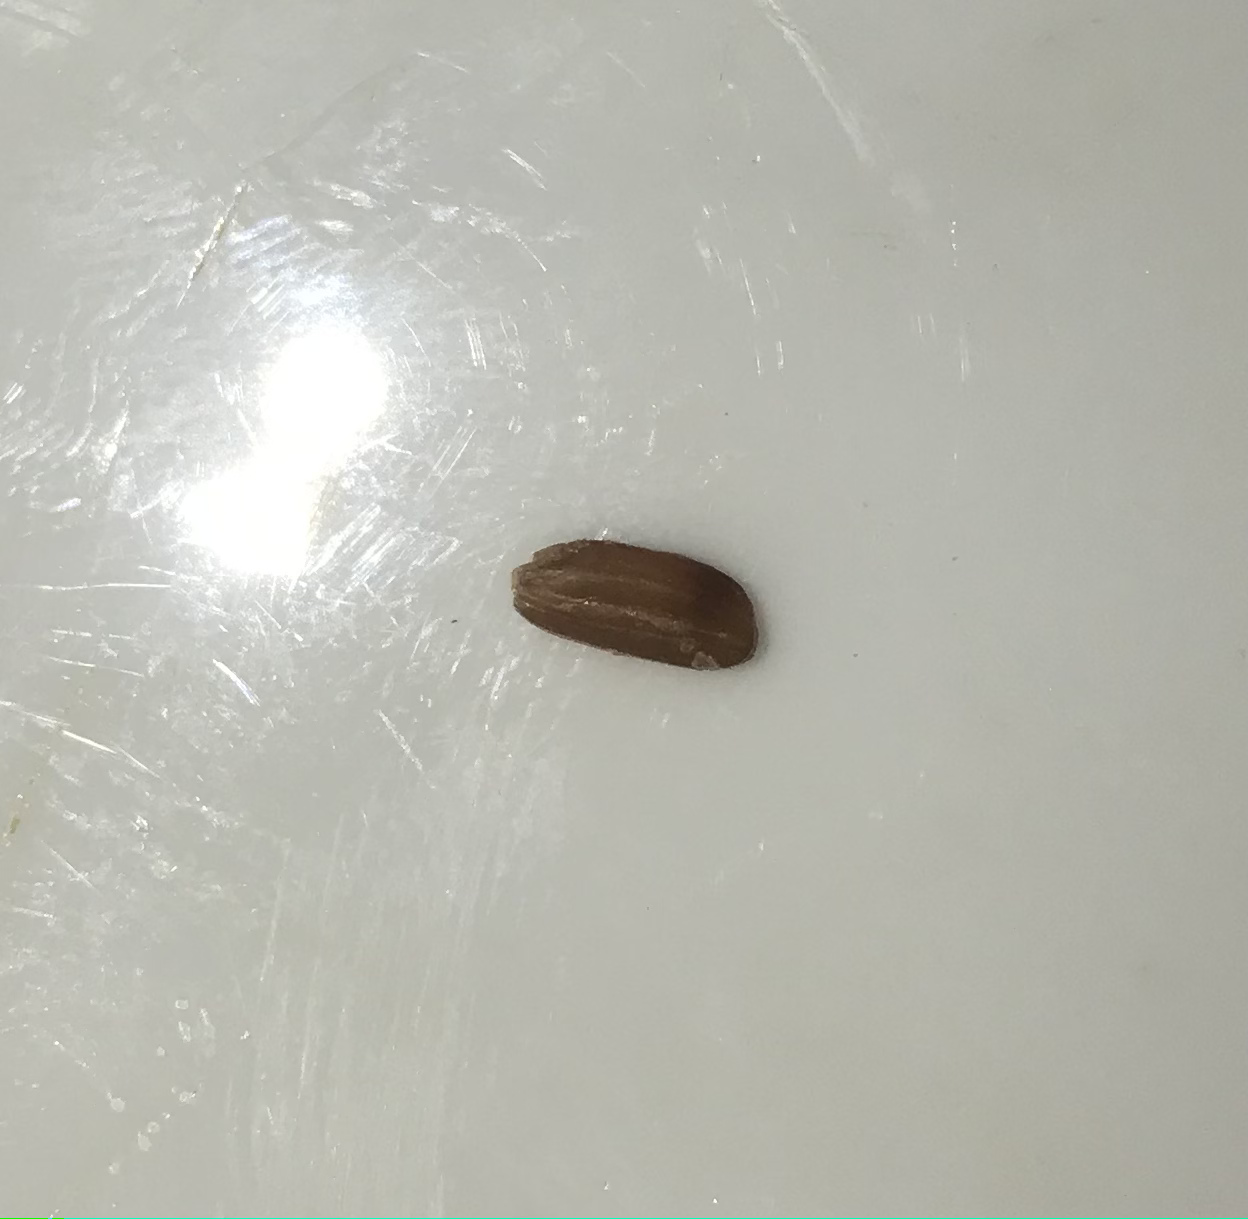Gao Lut Do: (511, 516, 778, 709)
